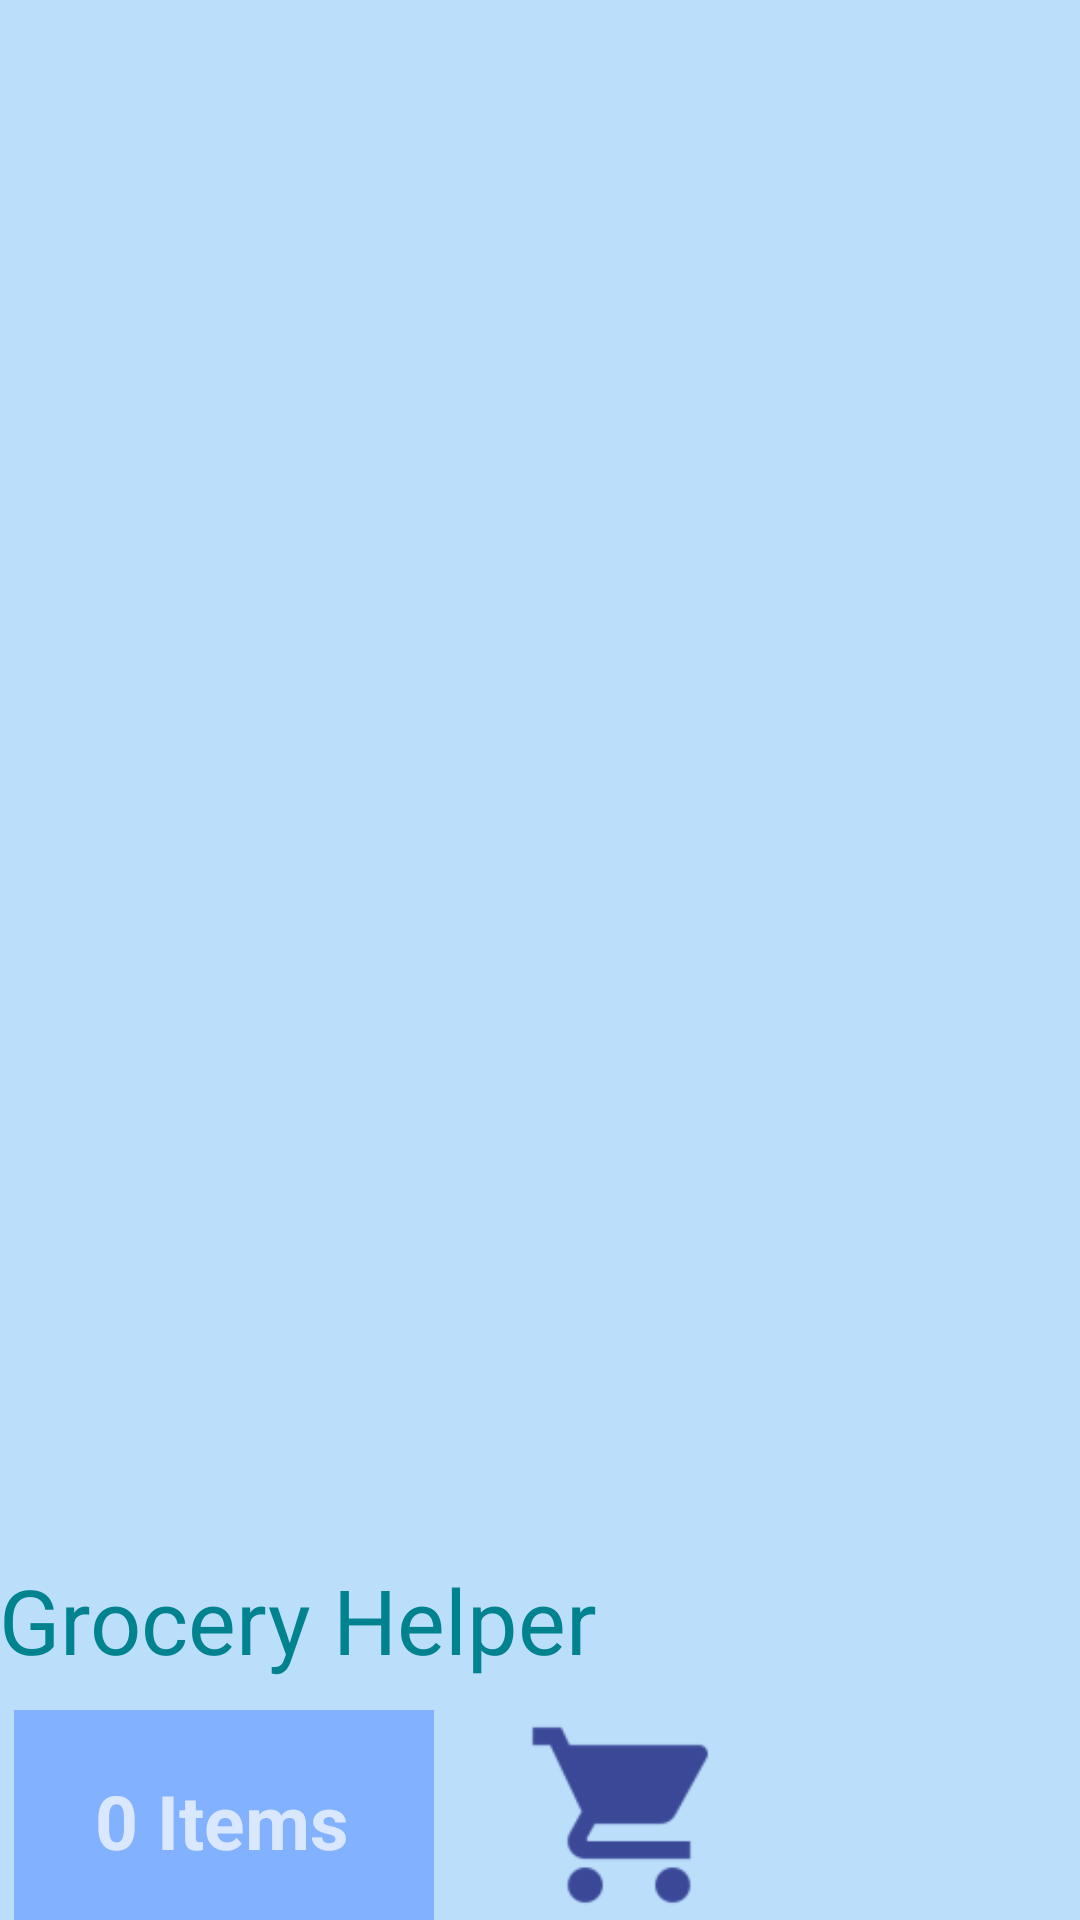

Point at icon controls on the screen. Image size 1080w x 1920h, points as [x,y].
shopping: [620,1815]
